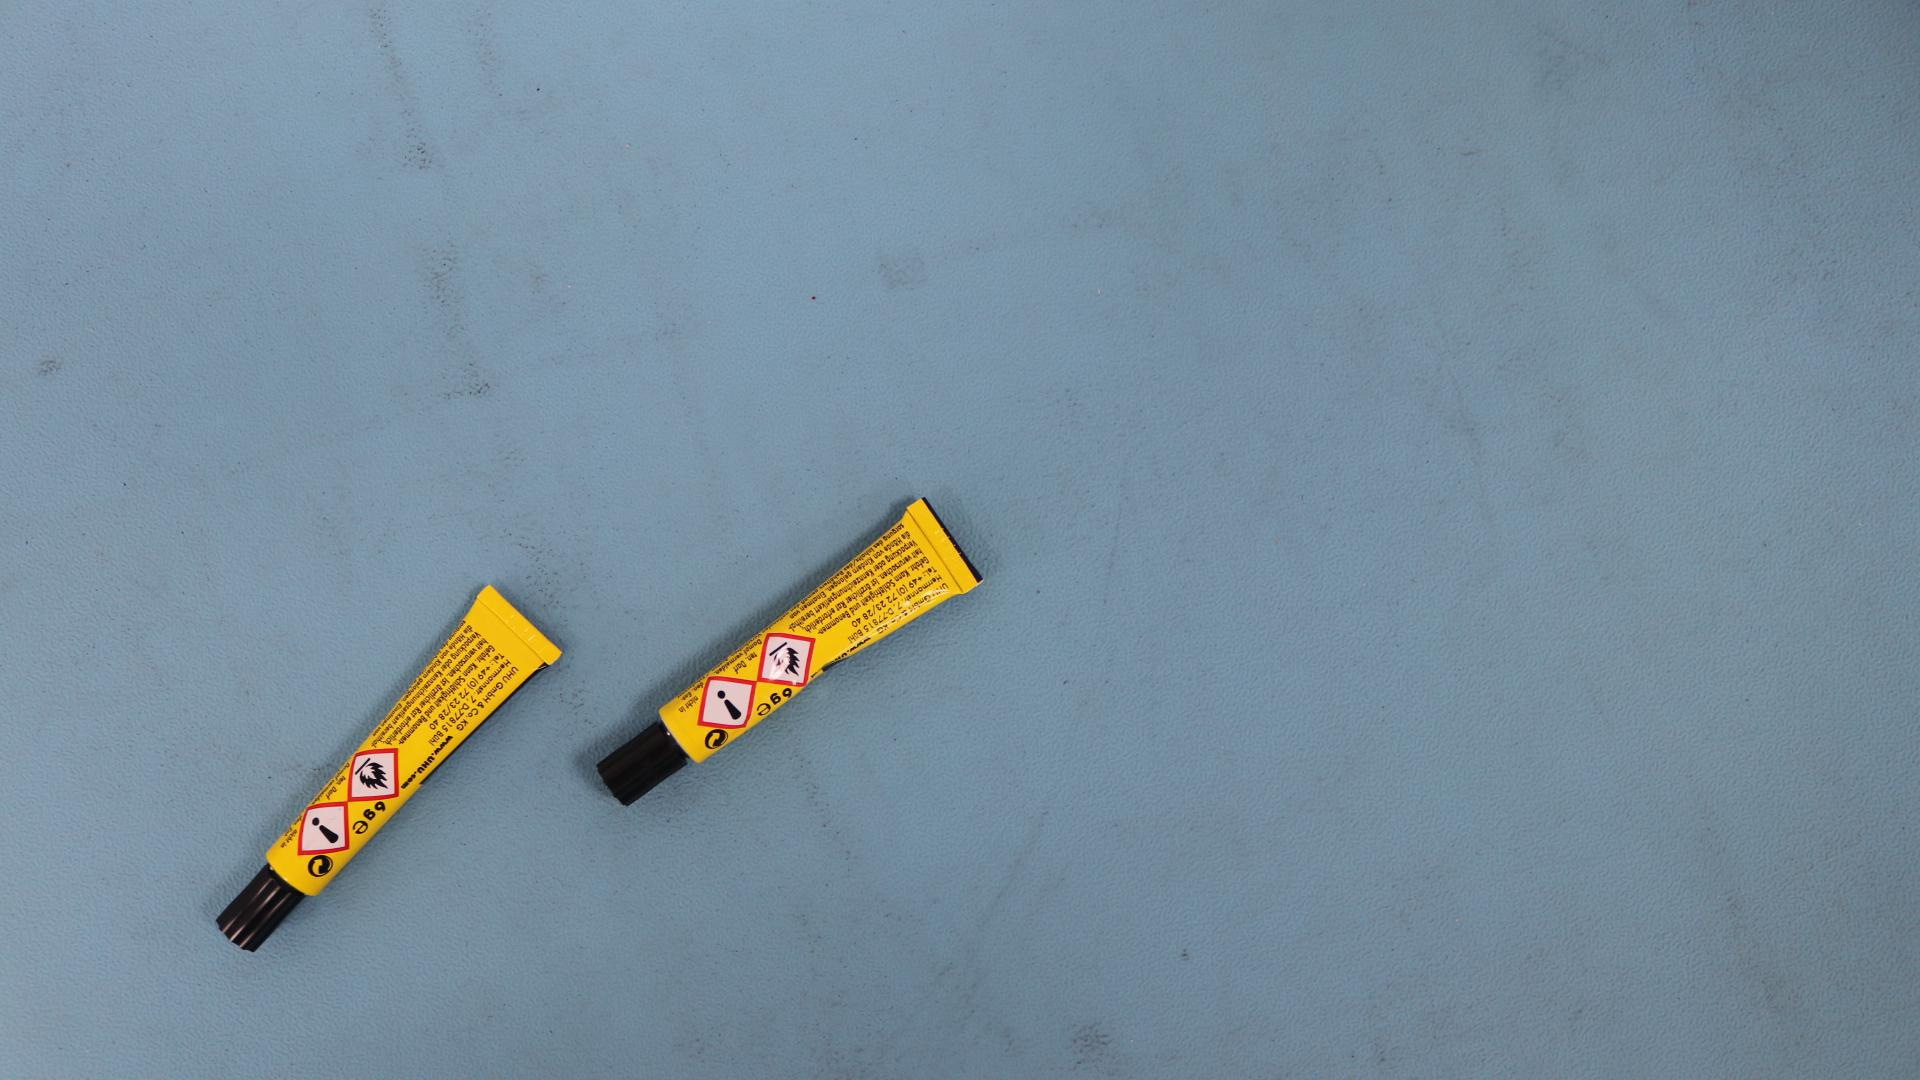Head: (638, 761, 647, 770), (254, 908, 262, 916)
Tail: (940, 542, 951, 553), (516, 623, 525, 631)
Tube: (216, 584, 563, 953), (596, 498, 984, 807)
